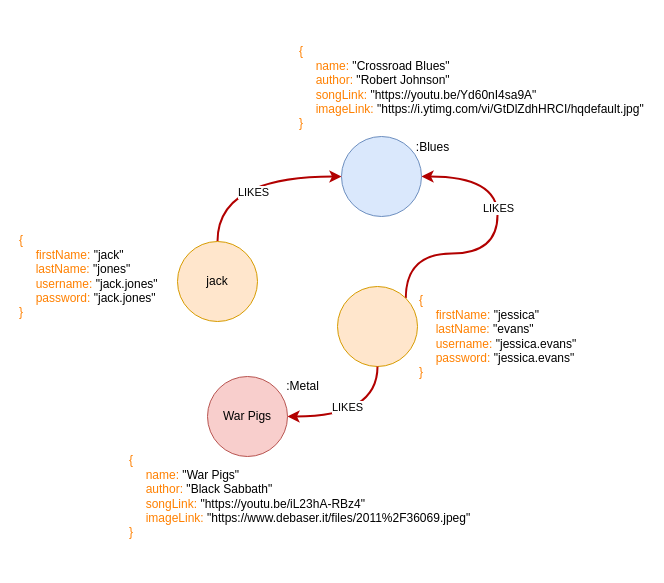
The diagram is 664 pixels wide and 583 high, and some of its shapes have lost their labels. Each missing label, with the box of its shape:
Crossroad Blues: (340, 136, 422, 216)
jessica: (336, 286, 418, 366)
